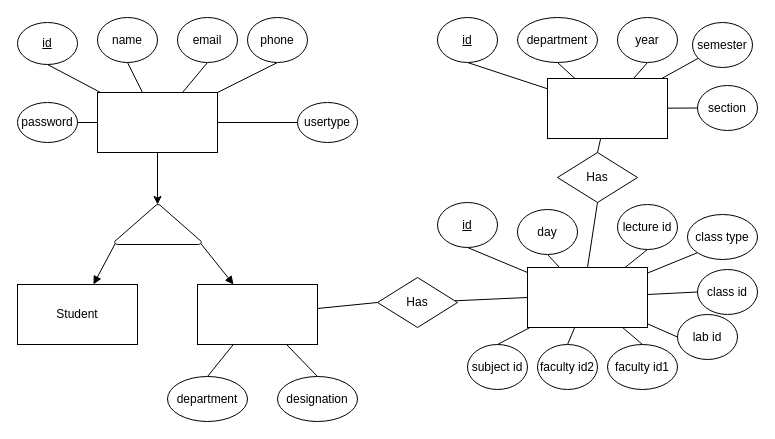
Some shapes in this 775 by 439 pixel diagram are drawn without their labels. Here are the shapes that lost their labels. From the top down, the box of each, then its label:
(96, 92, 218, 152): User
(546, 78, 668, 138): Class
(114, 204, 202, 244): Is A
(196, 284, 318, 344): Faculty
(526, 266, 648, 328): Timetable
